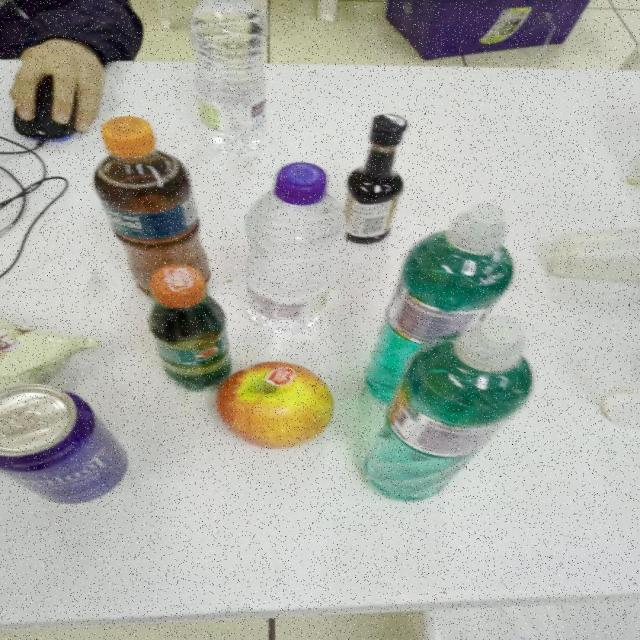Apple: (215, 360, 334, 447)
Cleaner: (358, 307, 533, 504), (360, 202, 513, 404)
CornFlakes: (0, 312, 99, 407)
EnglishSauce: (341, 115, 405, 245)
Guarana: (148, 266, 231, 386)
IceTea: (92, 116, 214, 296)
Tonic: (0, 390, 133, 502)
Water: (242, 163, 342, 331), (189, 0, 266, 155)
